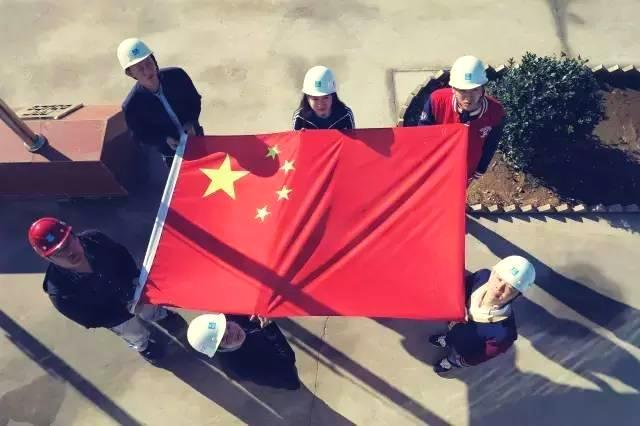helmet: (494, 252, 539, 299), (30, 212, 74, 259), (186, 312, 228, 358), (450, 57, 491, 90), (300, 67, 338, 97), (117, 40, 154, 70)
